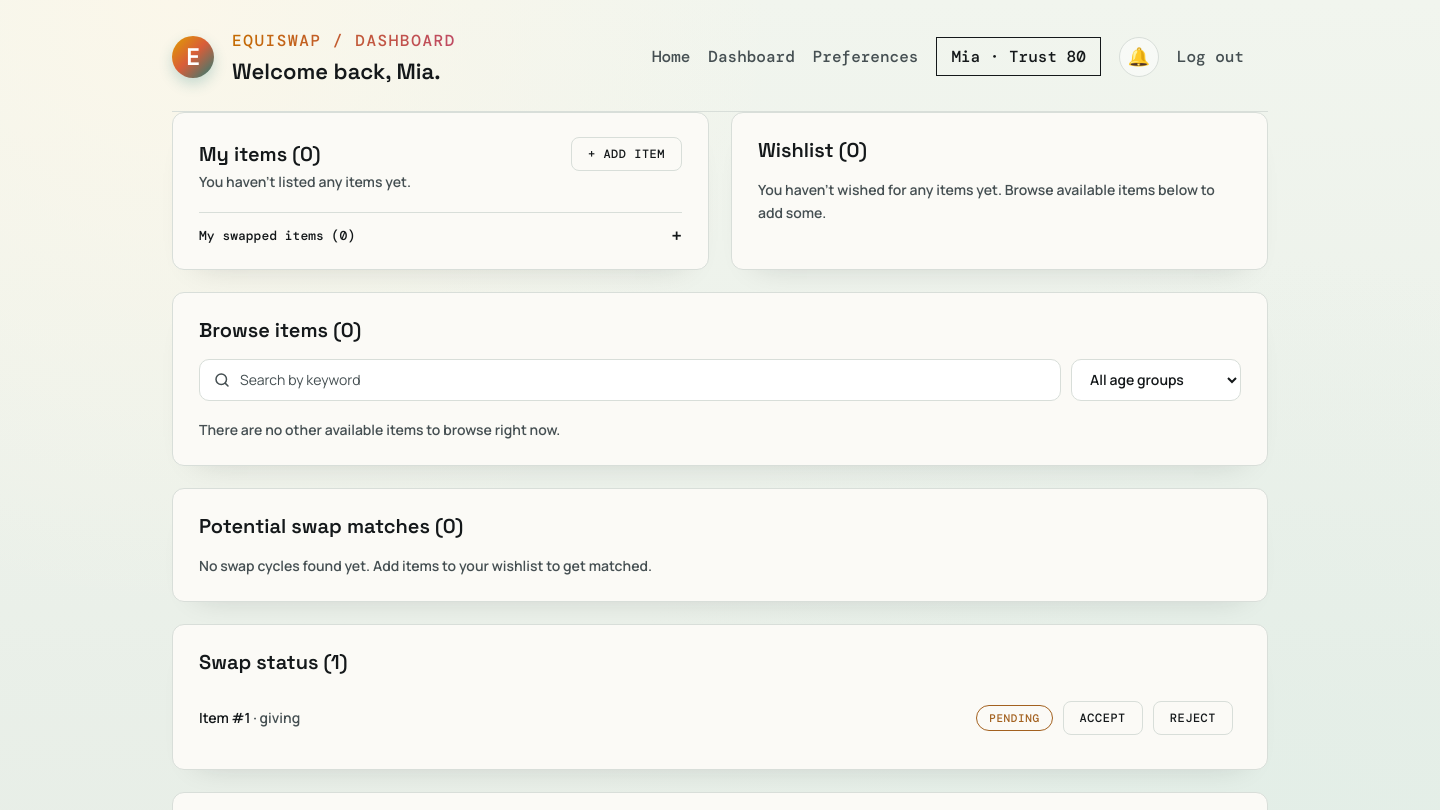
Scenario: DashboardPage › rejects a swap proposal and shows an error if the request fails
Expected: the heading "Swap status (1)" is shown, [199,649,348,675]
Step 1. Click the button "Reject" → click(1193, 718), box [1153,701,1233,735]
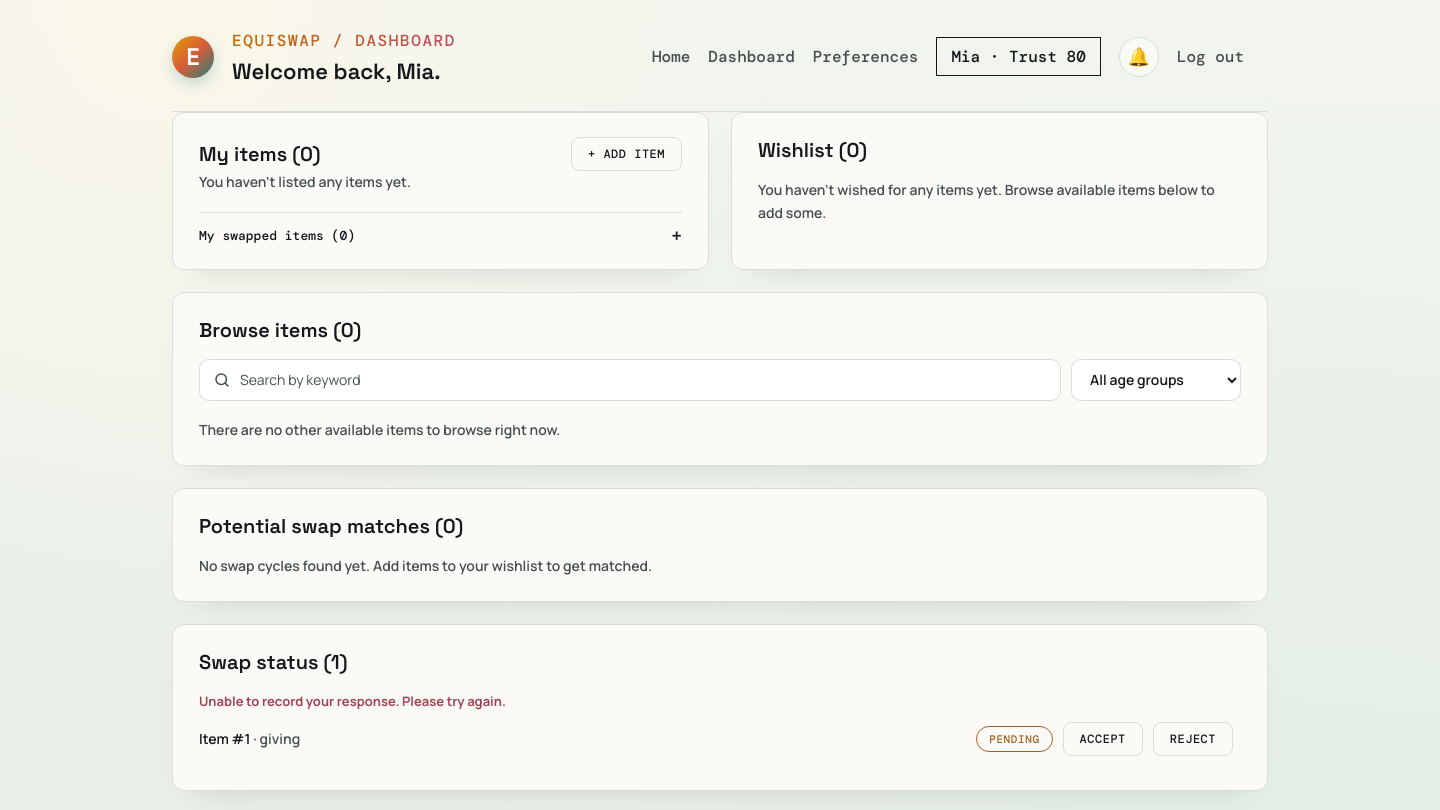
Expected: the text "Unable to record your response. Please try again." is shown, [199,692,506,710]
